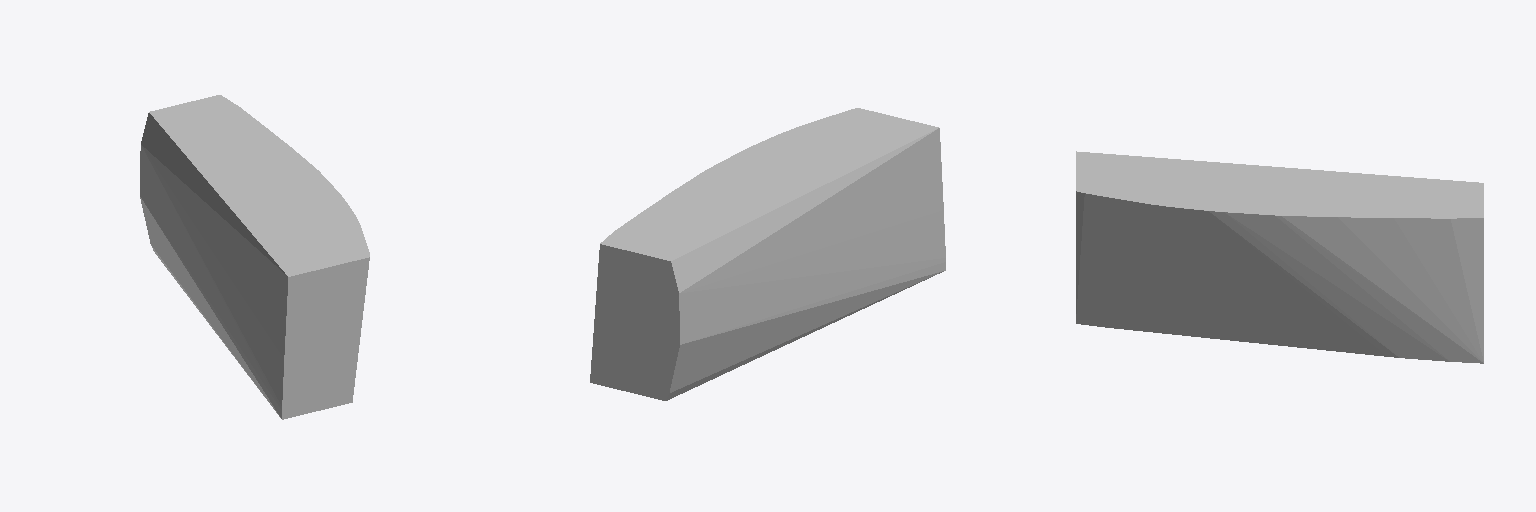
File: phantom-elastrat_collision_401.obj
The picture shows the model from 3 angles: view 1: azimuth 30°, elevation 25°; view 2: azimuth 150°, elevation 25°; view 3: azimuth 270°, elevation 25°; orthographic projection.
Bounding box in the file's own units: 0.0036 × 0.0032 × 0.0084.